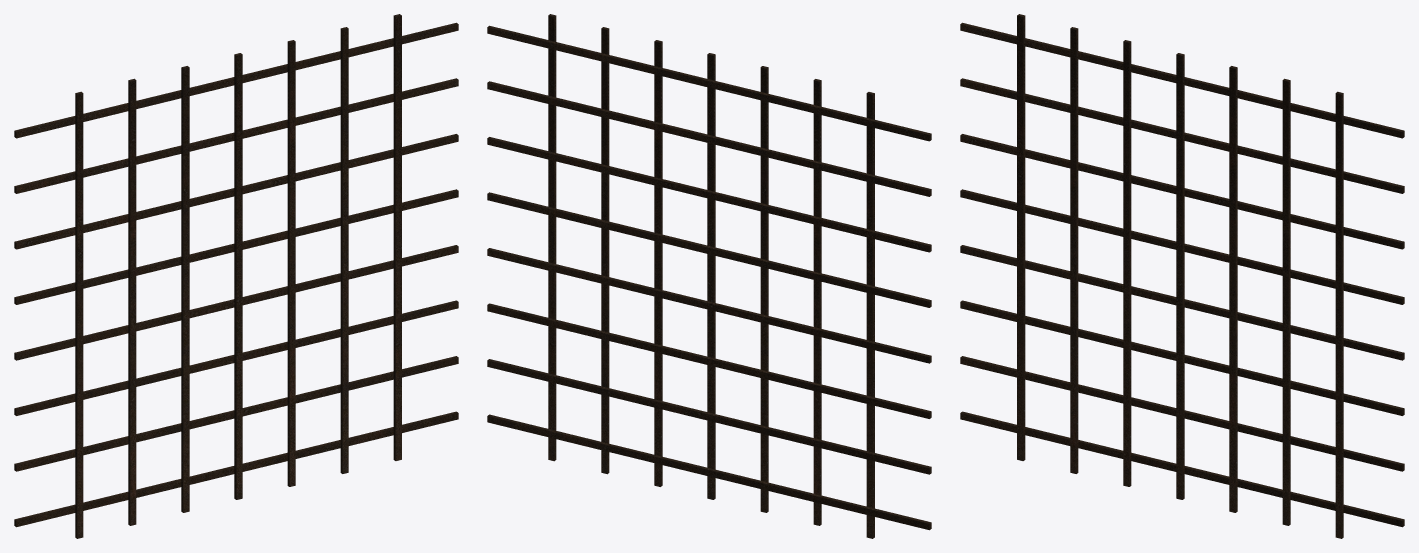
Rendered from bars_metal_2.glb.
The picture shows the model from 3 angles, left to right: view 1: azimuth 30°, elevation 25°; view 2: azimuth 150°, elevation 25°; view 3: azimuth 330°, elevation 25°; orthographic projection.
Parts seen in each view (by area): view 1: bars_metal_2; view 2: bars_metal_2; view 3: bars_metal_2.
Boxes of the visible parts, bbox=[...] form: bars_metal_2: bbox=[14, 14, 458, 538]; bars_metal_2: bbox=[487, 14, 931, 538]; bars_metal_2: bbox=[960, 14, 1404, 538].
Bounding box in the file's own units: 2.5 × 2.4 × 0.04.
1 material, 1 textured.
